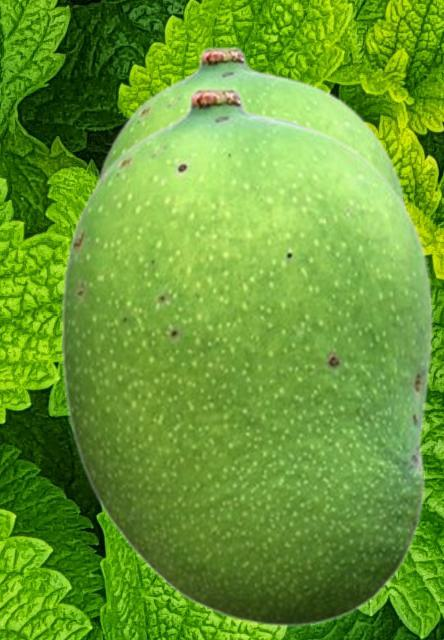green_mango: (59, 85, 432, 627), (92, 45, 408, 204)
